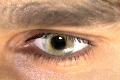eye: (43, 33, 75, 55)
